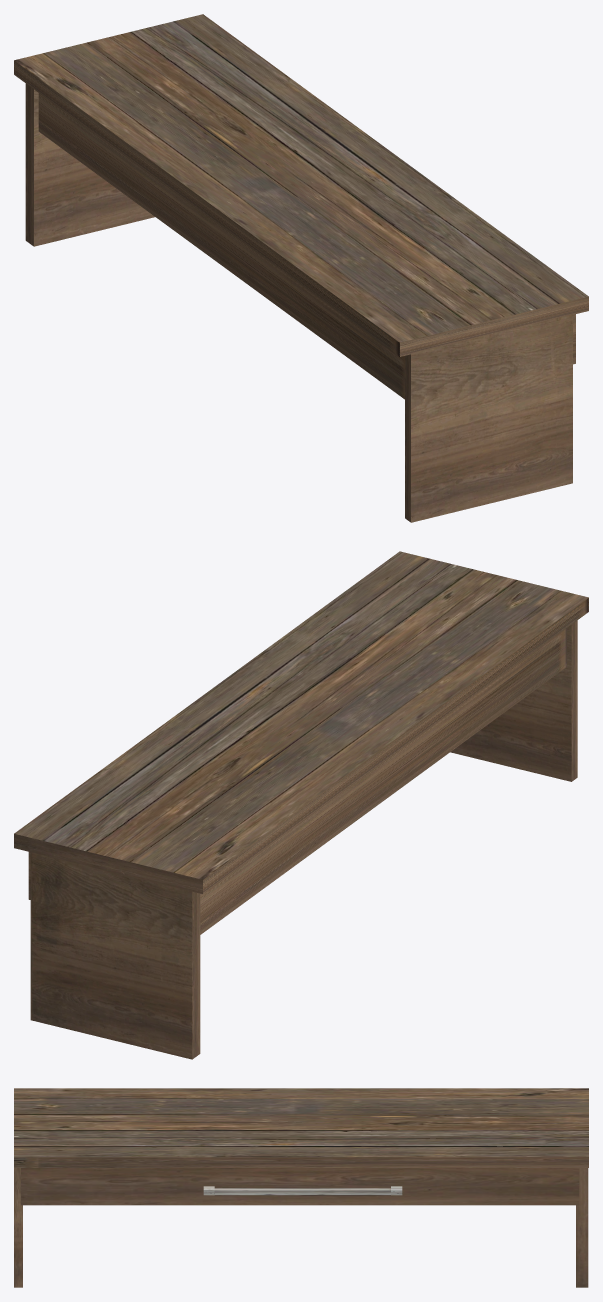
The model's file is тумбачка2.fbx.
3 views of the same model, one above another, from view 1: azimuth 30°, elevation 25°; view 2: azimuth 150°, elevation 25°; view 3: azimuth 270°, elevation 25° (orthographic). The views are drawn at different scales.
Visible parts, largest first — view 1: Cube; view 2: Cube; view 3: Cube.
Part boxes in pixels (x1,y1,x2,y2): Cube: [14, 14, 588, 522]; Cube: [14, 551, 588, 1059]; Cube: [14, 1088, 588, 1287].
Bounding box in the file's own units: 238 × 216 × 826.
